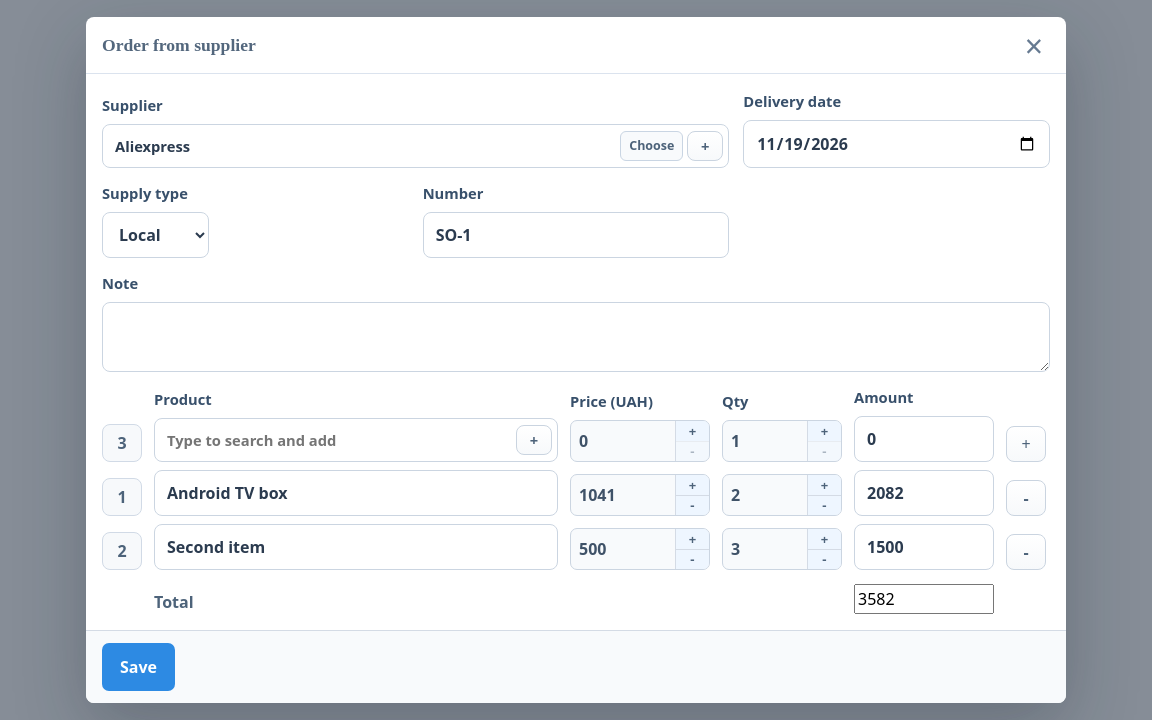
Test: SupplierOrderModal price/qty steppers › renders basket row steppers and increments qty by one
Expected: the number of elements with class "supplier-order-basket-row" is 2, left=102, top=470, right=1050, bottom=516; left=102, top=524, right=1050, bottom=570
Click the 9th button "+": (824, 539) left=808, top=529, right=841, bottom=549
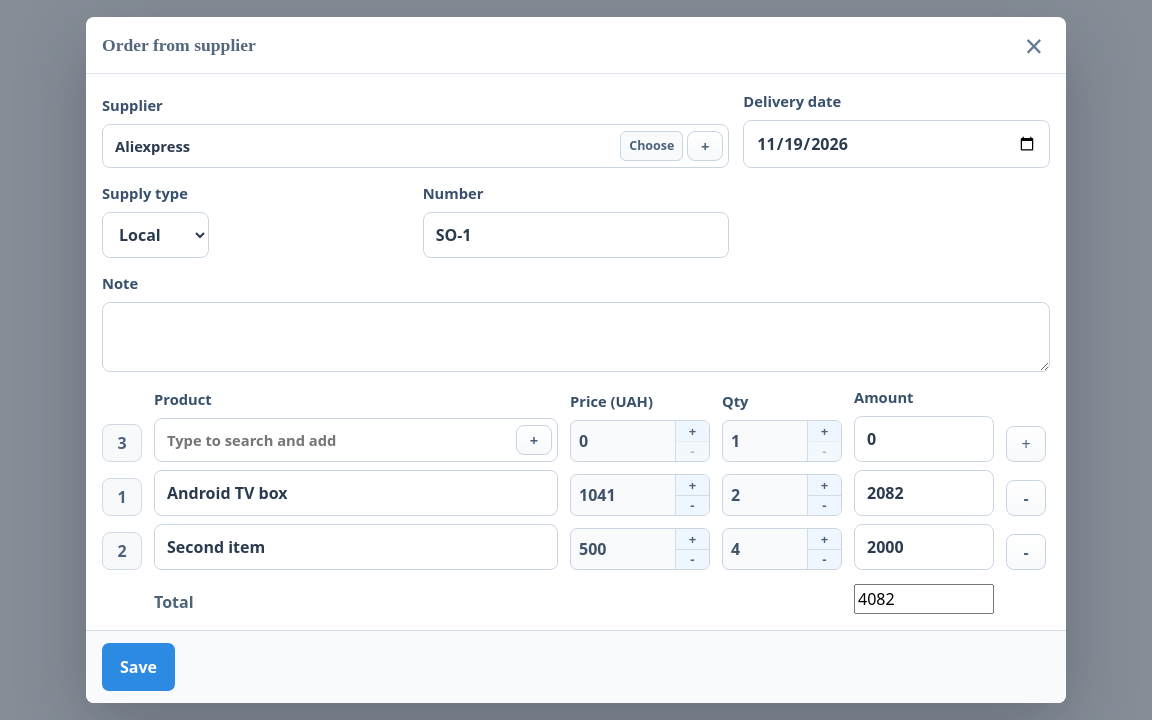
Expected: the 2nd field named "Qty" holds "4", left=723, top=529, right=807, bottom=569
